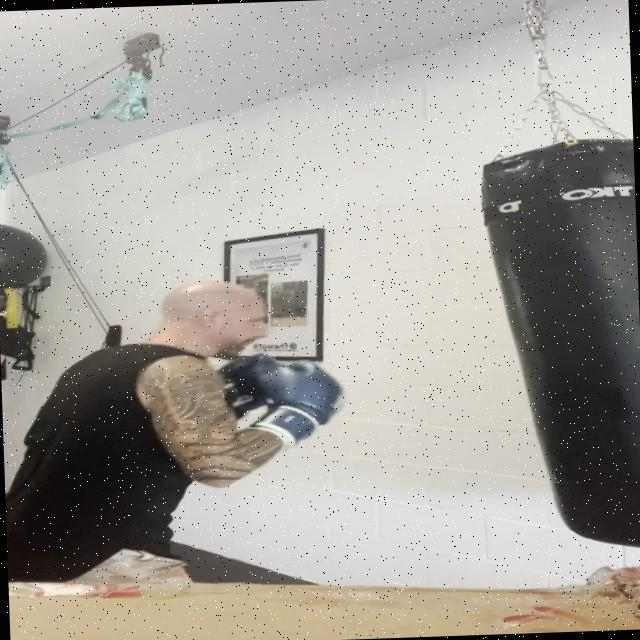bag: (487, 130, 640, 553)
no punch: (37, 274, 356, 486)
